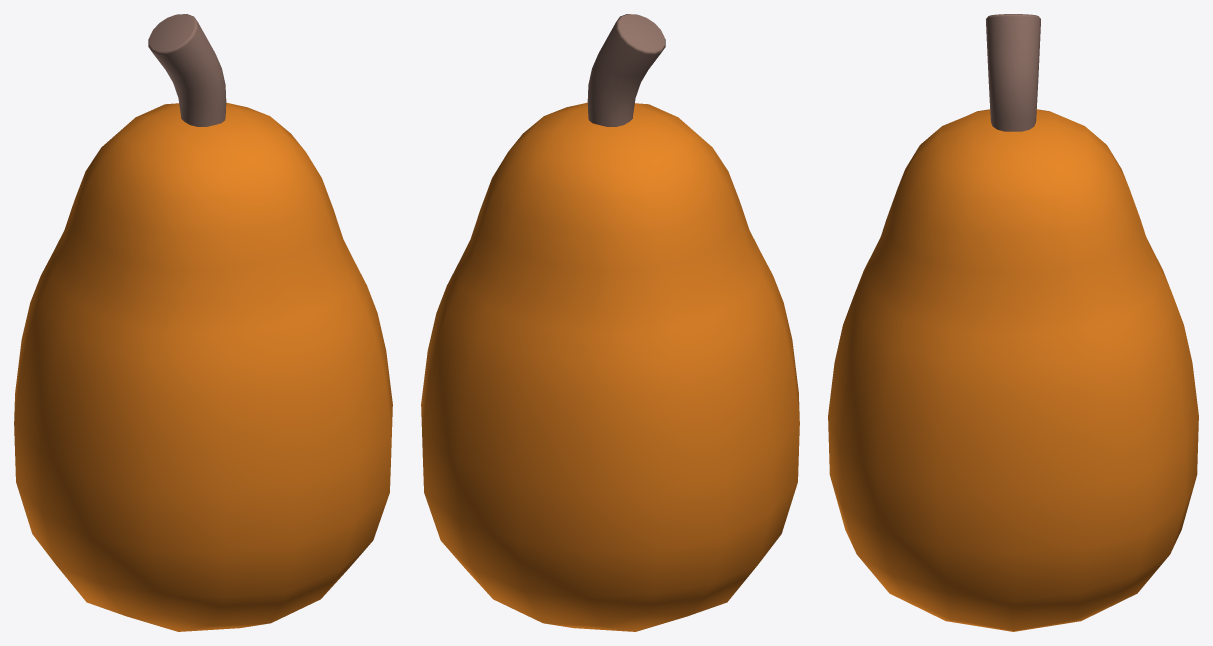
File: Isl_9_Pear_1.fbx
3 views of the same model, side by side, from view 1: azimuth 30°, elevation 25°; view 2: azimuth 150°, elevation 25°; view 3: azimuth 270°, elevation 25° (orthographic).
Visible parts, largest first — view 1: Isl_9_Pear_1; view 2: Isl_9_Pear_1; view 3: Isl_9_Pear_1.
Part boxes in pixels (x1,y1,x2,y2): Isl_9_Pear_1: (14, 14, 392, 631); Isl_9_Pear_1: (421, 14, 799, 631); Isl_9_Pear_1: (828, 14, 1198, 631).
Size of the model in its own units: 25.24 by 44.31 by 25.24.
